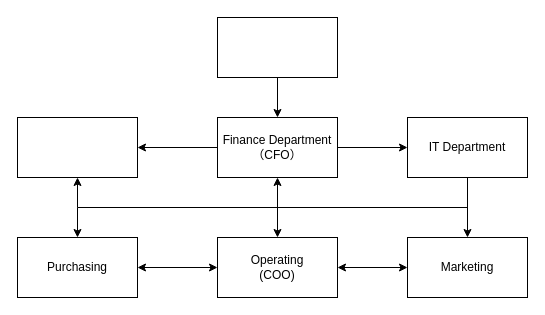
Image size: 545x315. Some labels were removed from this diagram. The shapes that lost their labels are listed below. From the top down, each one's centre as x and y in pixels, then its label:
the point at 277,47: Office of president (CEO)
the point at 77,147: HR（CPO）
